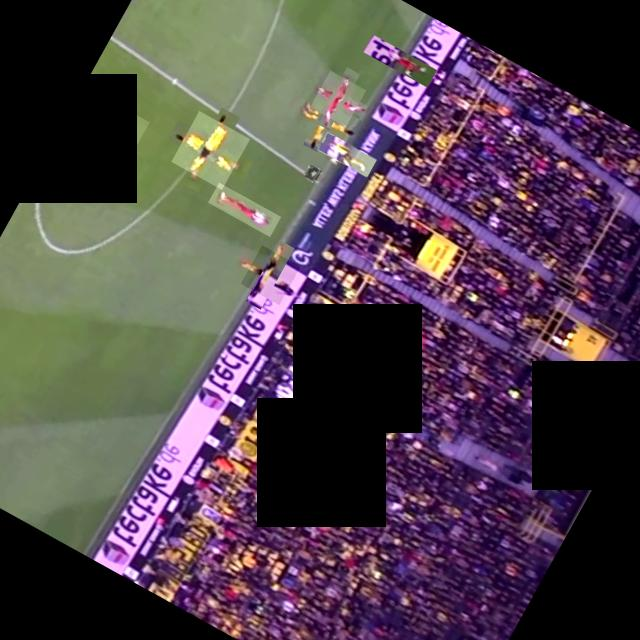ball: (305, 164, 322, 182)
soccer-player: (63, 90, 150, 178), (172, 110, 250, 189), (208, 182, 282, 236), (363, 34, 438, 87), (241, 244, 301, 304), (298, 92, 354, 148), (310, 70, 366, 126), (318, 131, 378, 177)
